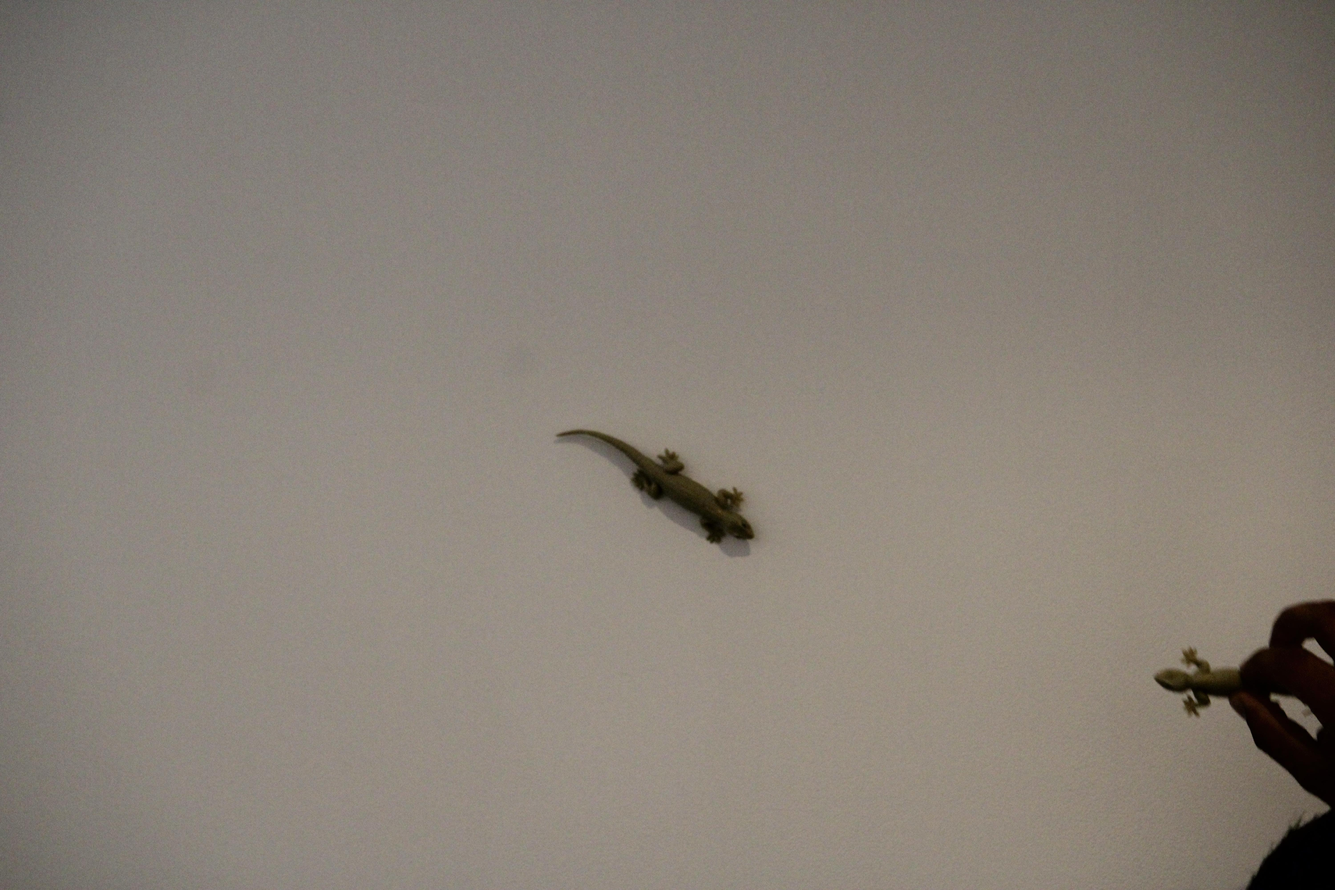lizard: (554, 412, 758, 555), (1135, 641, 1246, 713)
